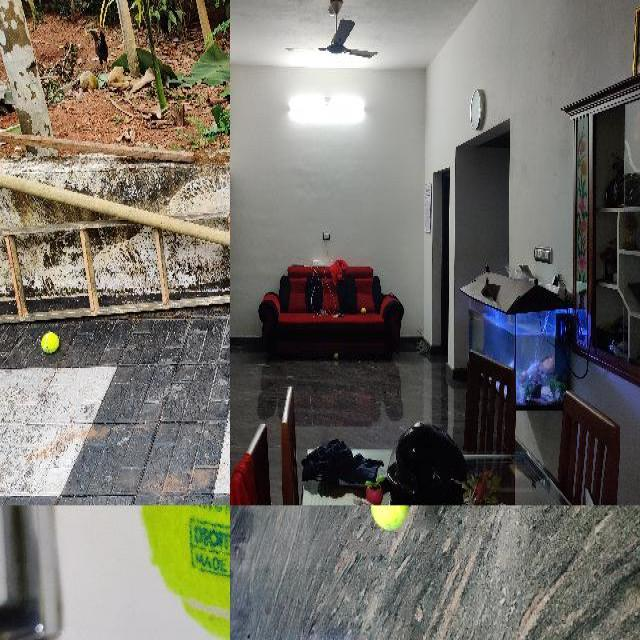tennis-ball: (136, 505, 229, 639), (370, 505, 408, 531), (41, 332, 59, 354), (361, 308, 365, 314), (334, 353, 338, 359)
